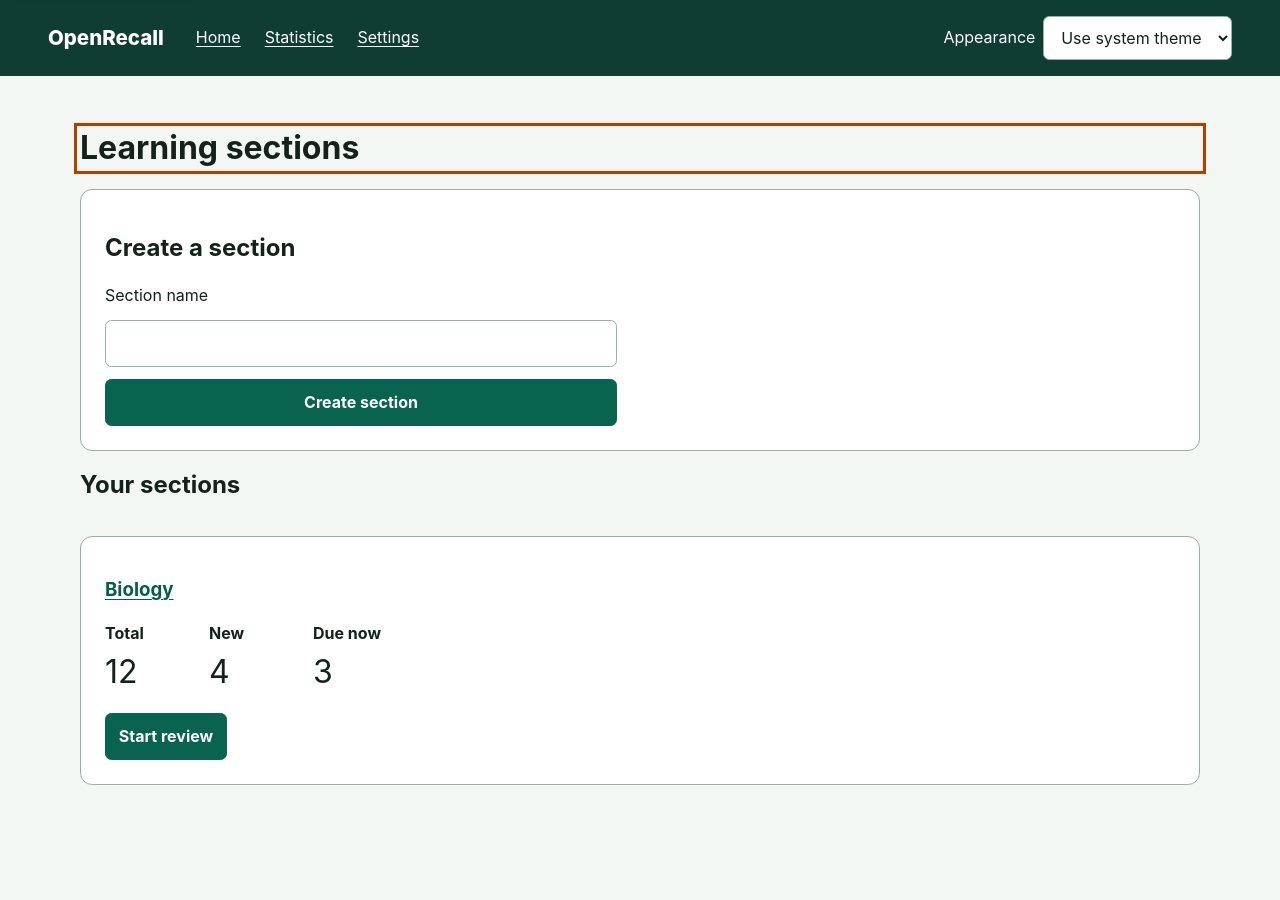
it: HomePage accessibility › focuses a persistent summary when section creation fails
This screenshot has width=1280, height=900.
Check: the heading "Learning sections" is shown, box x1=80 y1=128 x2=359 y2=167
In the field labelled "Section name": (361, 344) x1=105 y1=320 x2=617 y2=367, type "Invalid"
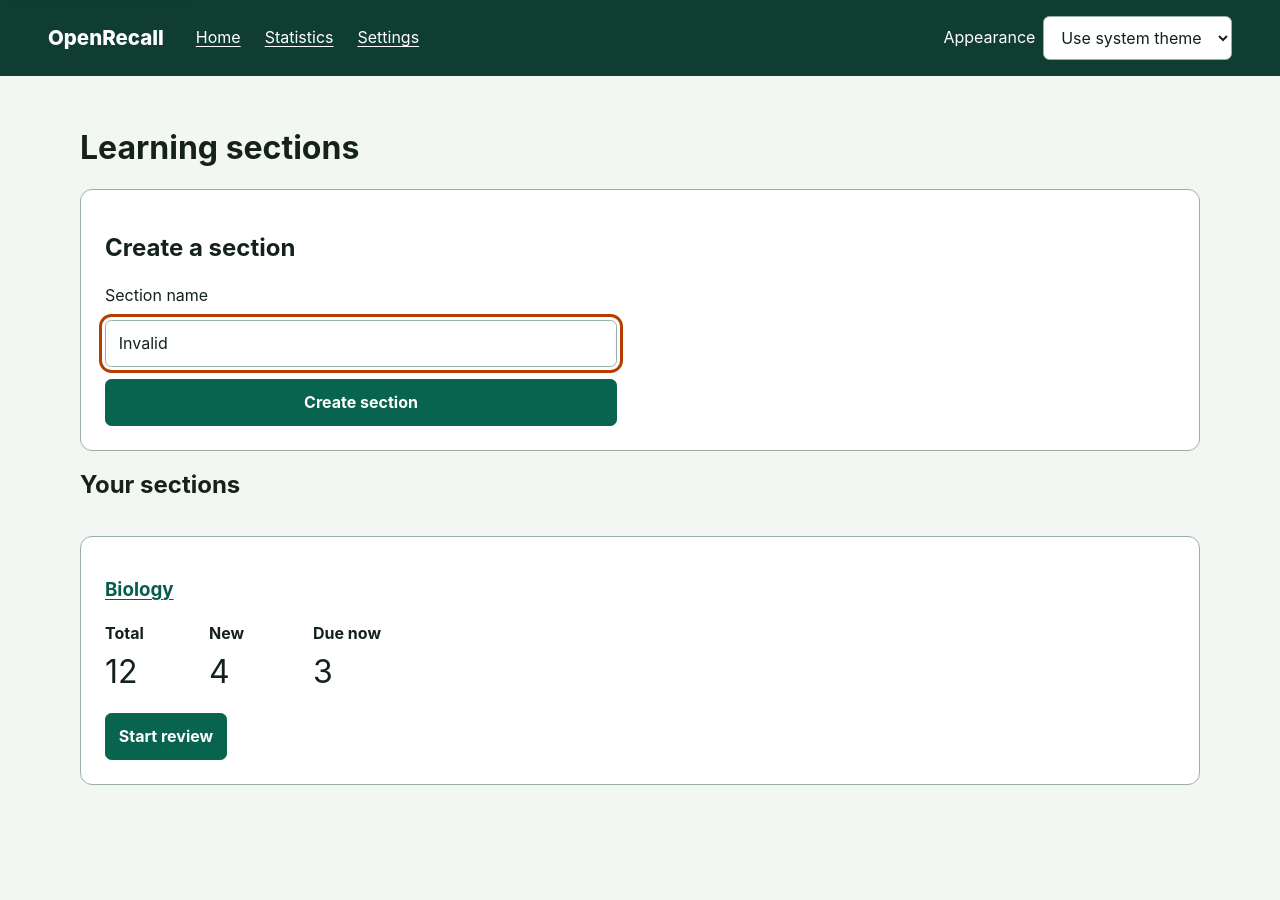
Click the button "Create section": (361, 403) x1=105 y1=379 x2=617 y2=426
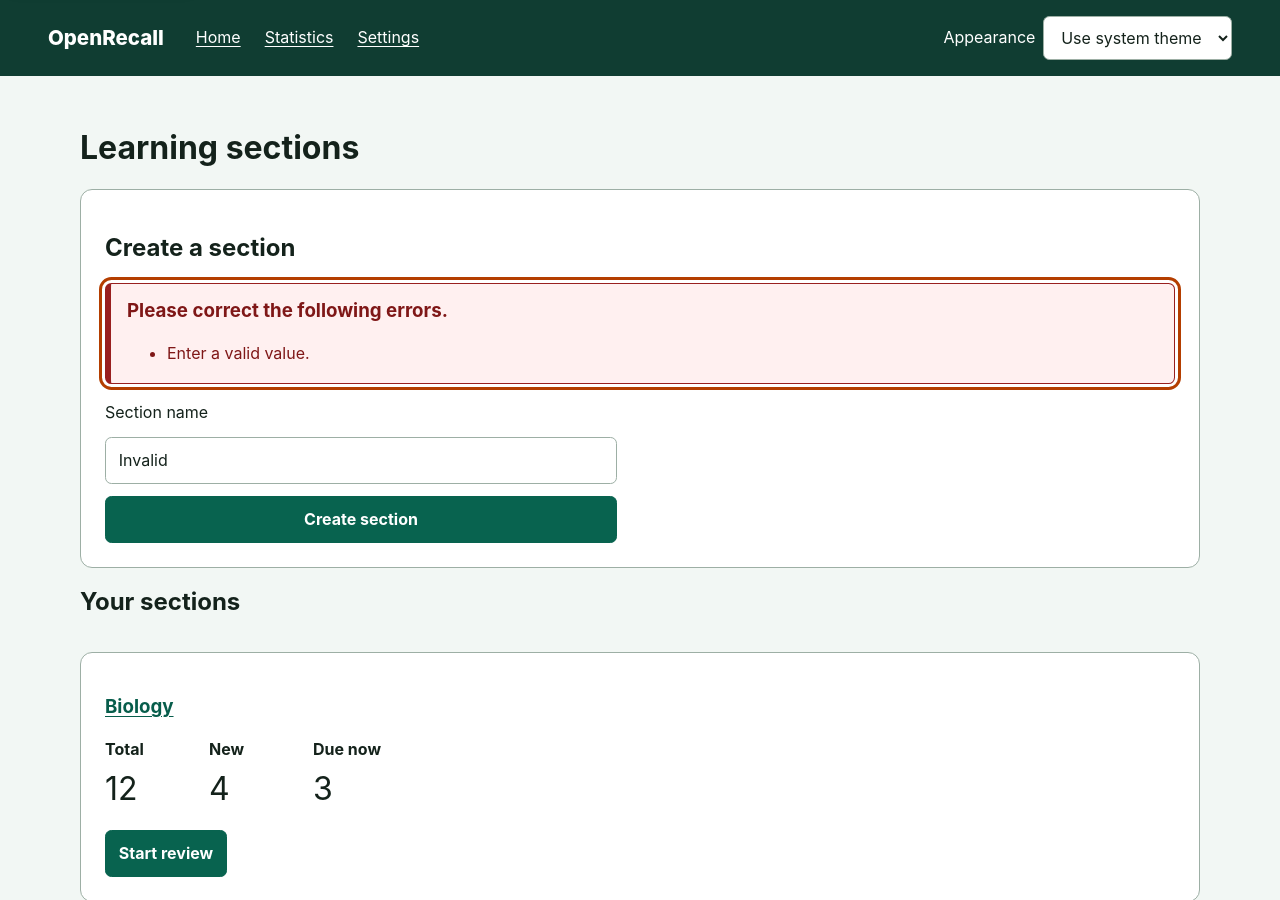
Check: the message shows "Please correct the following errors.", box x1=127 y1=299 x2=448 y2=322
